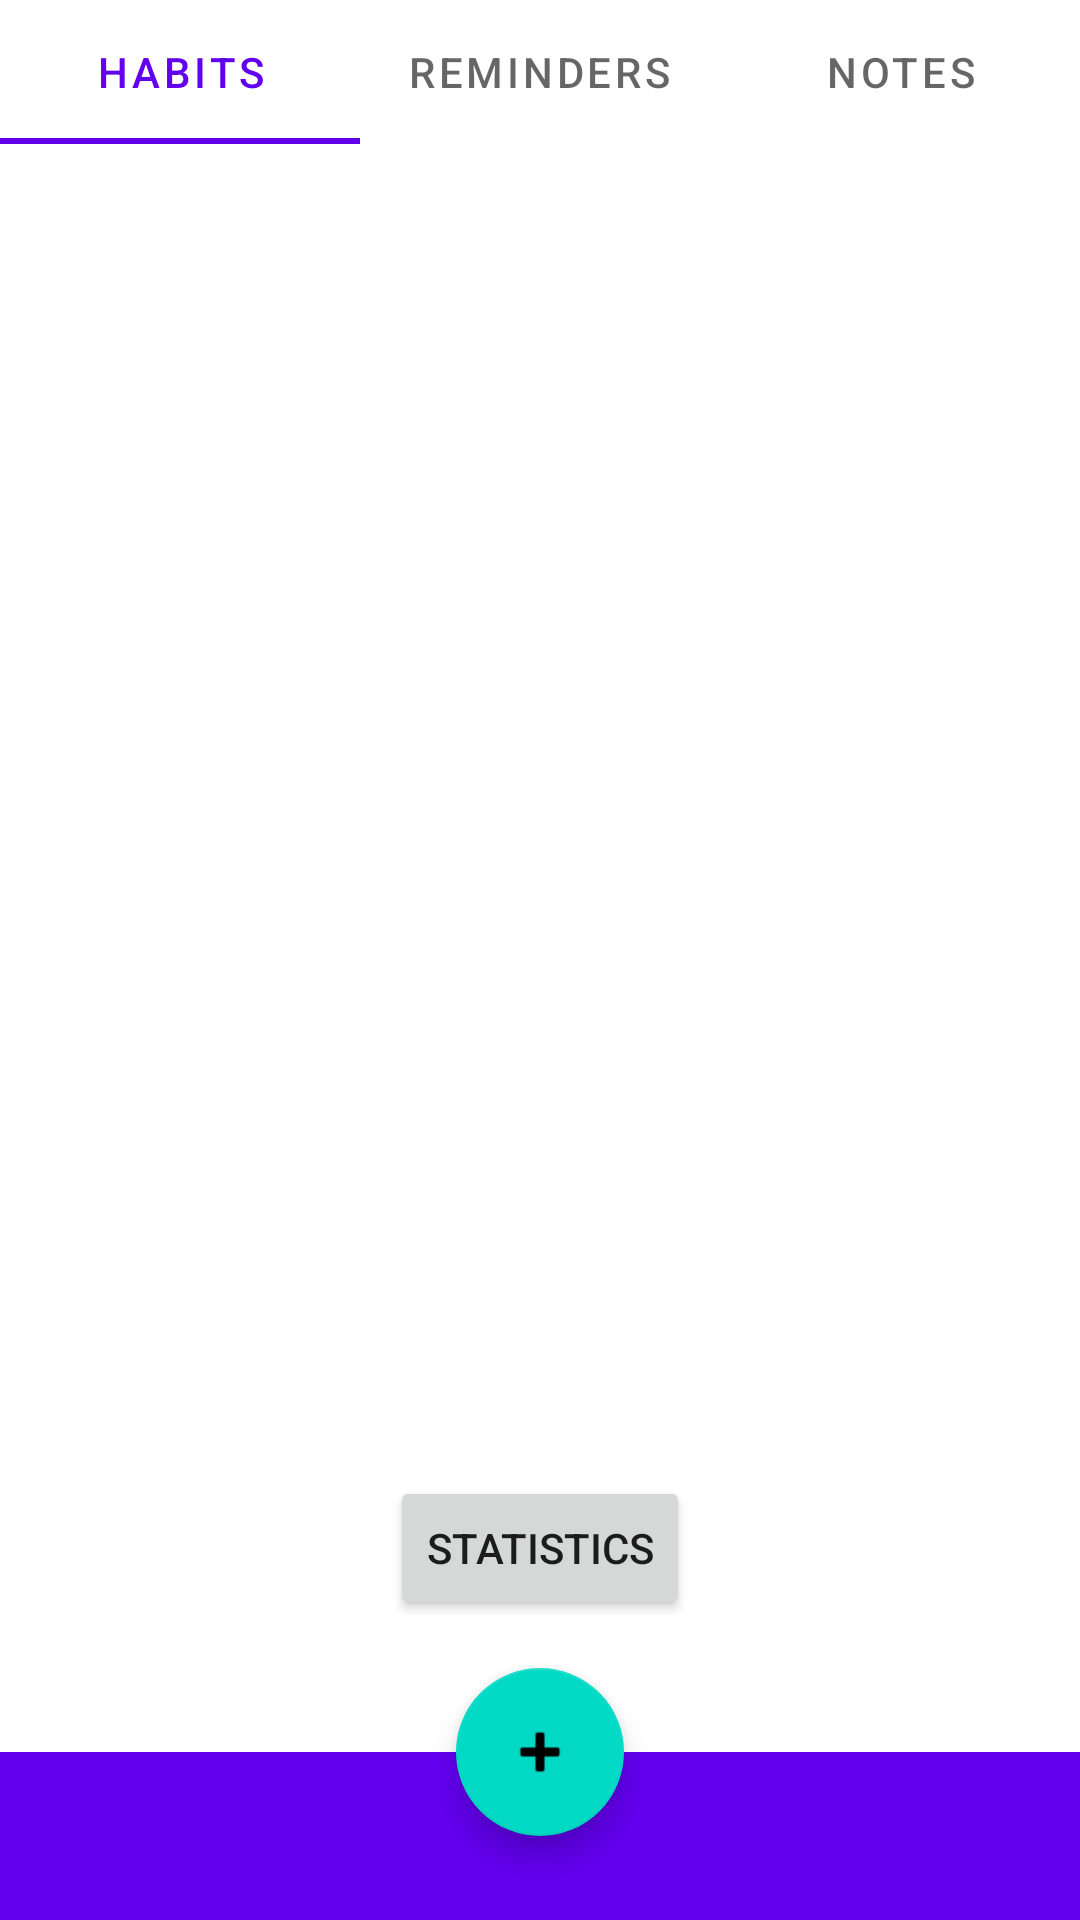

Screen size 1080px×1920px. Icon name, then its center in pixels as [x,y]:
Add button: [540,1752]
